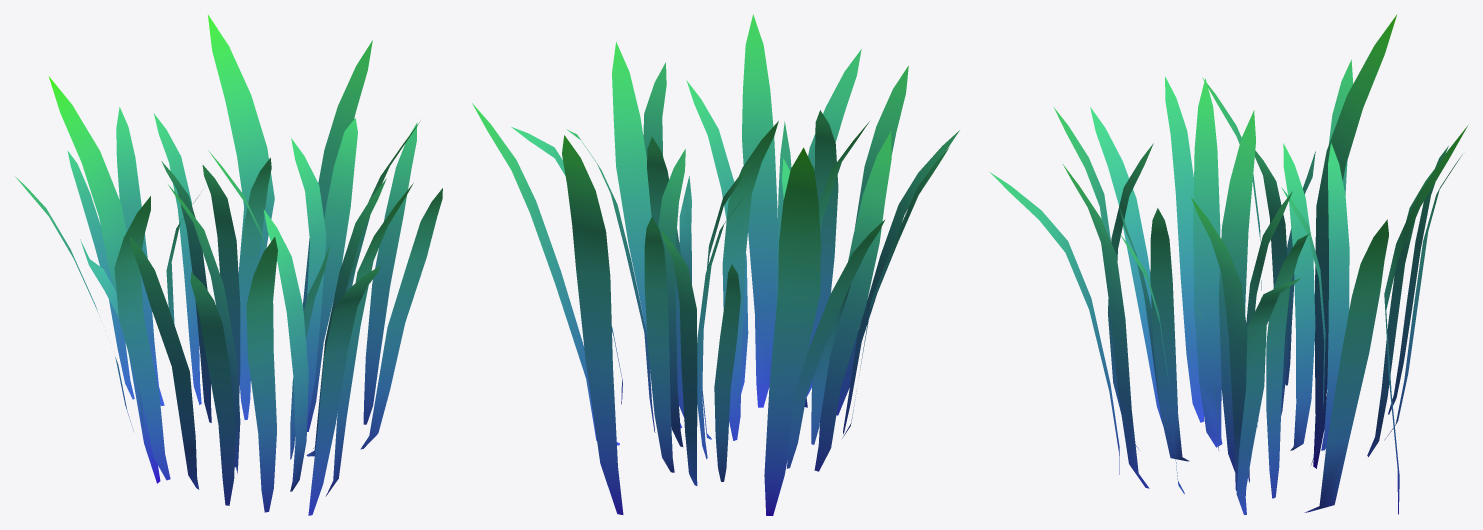
The model's file is GrassMesh.fbx.
3 renders of one model, left to right at view 1: azimuth 30°, elevation 25°; view 2: azimuth 150°, elevation 25°; view 3: azimuth 270°, elevation 25°, orthographic. The views are drawn at different scales.
Parts seen in each view (by area): view 1: Plane.063; view 2: Plane.063; view 3: Plane.063.
Part boxes in pixels (box(x1,y1,x2,y2)): Plane.063: box(15, 14, 442, 515); Plane.063: box(472, 14, 959, 515); Plane.063: box(990, 15, 1467, 514).
Bounding box in the file's own units: 221 × 220 × 230.
Materials: 1 (1 with a texture image).
